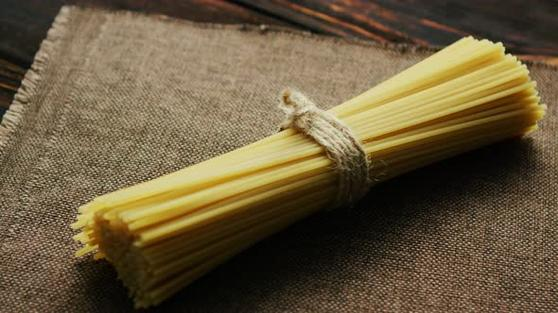spaghetti: (75, 34, 546, 313)
